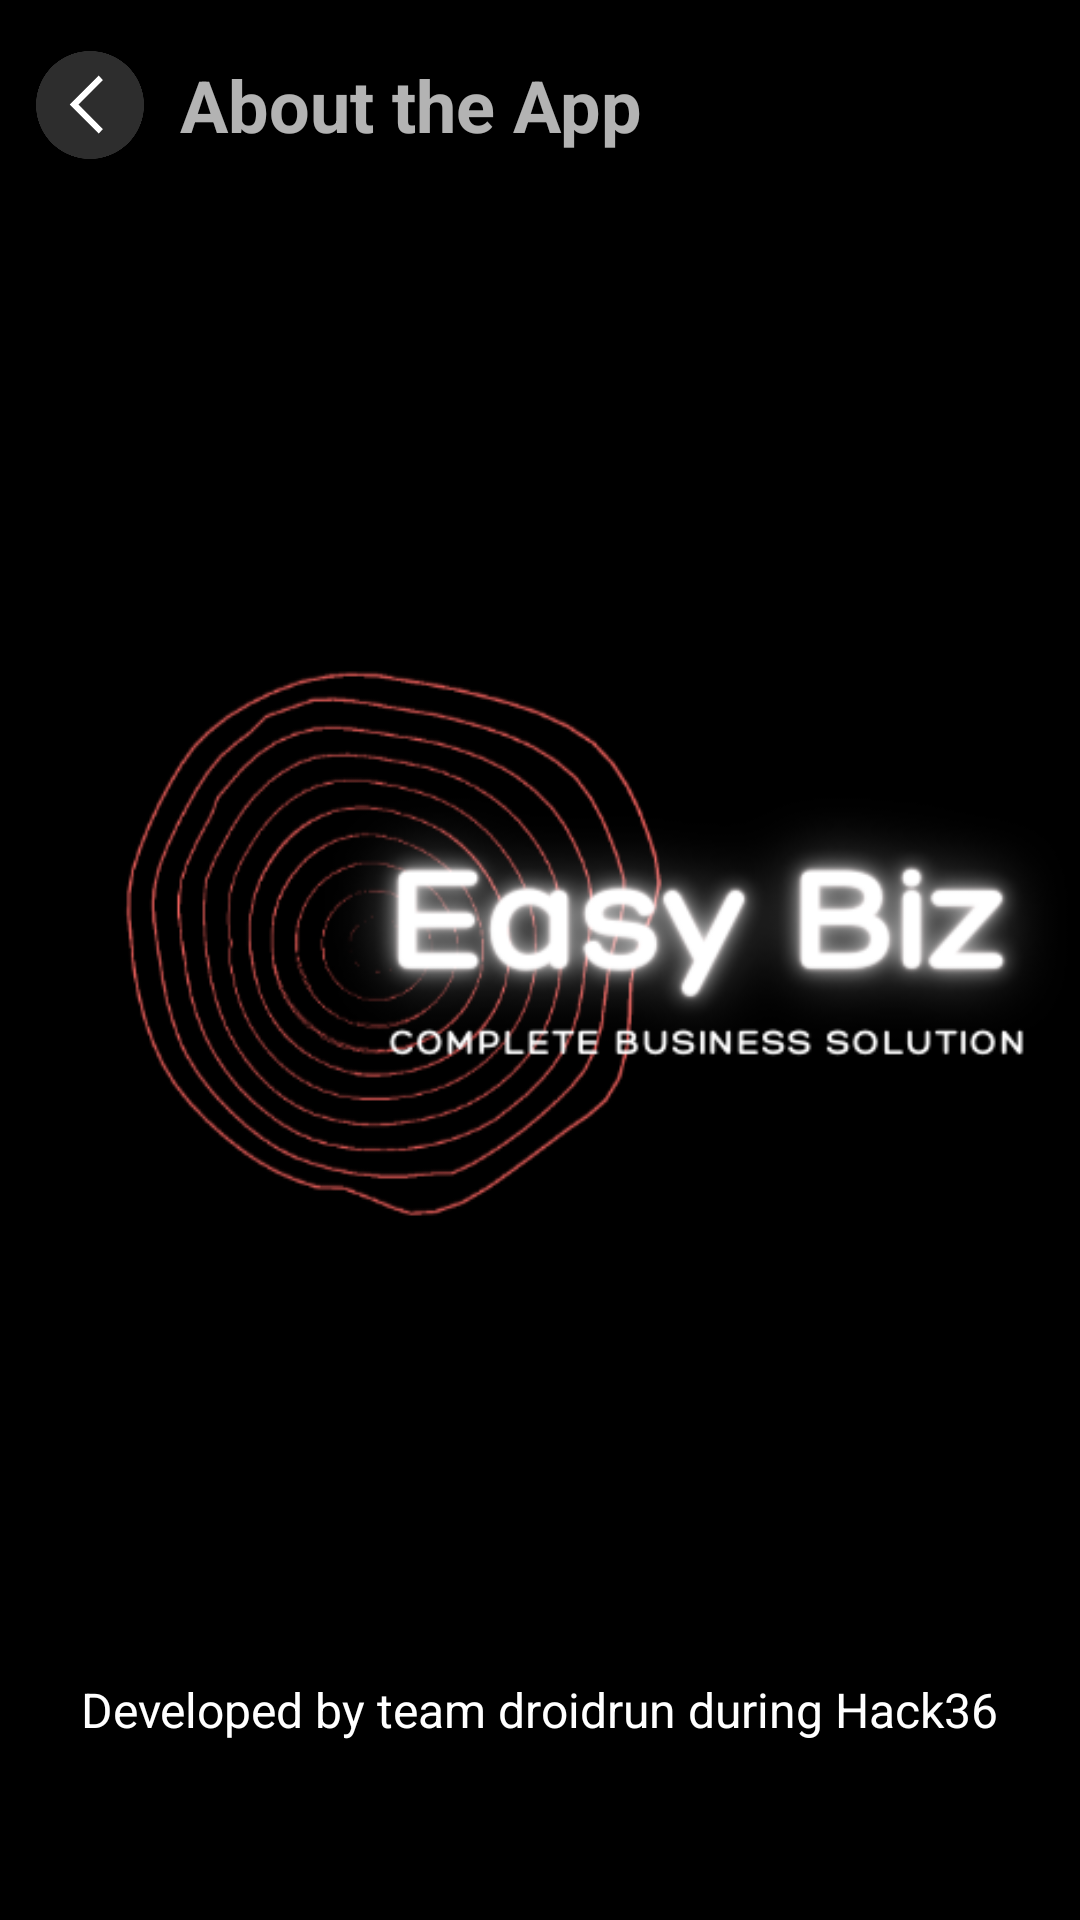

Where to tap for icons on this 1080w x 1920h app screen, as (x,y):
back: (90,105)
